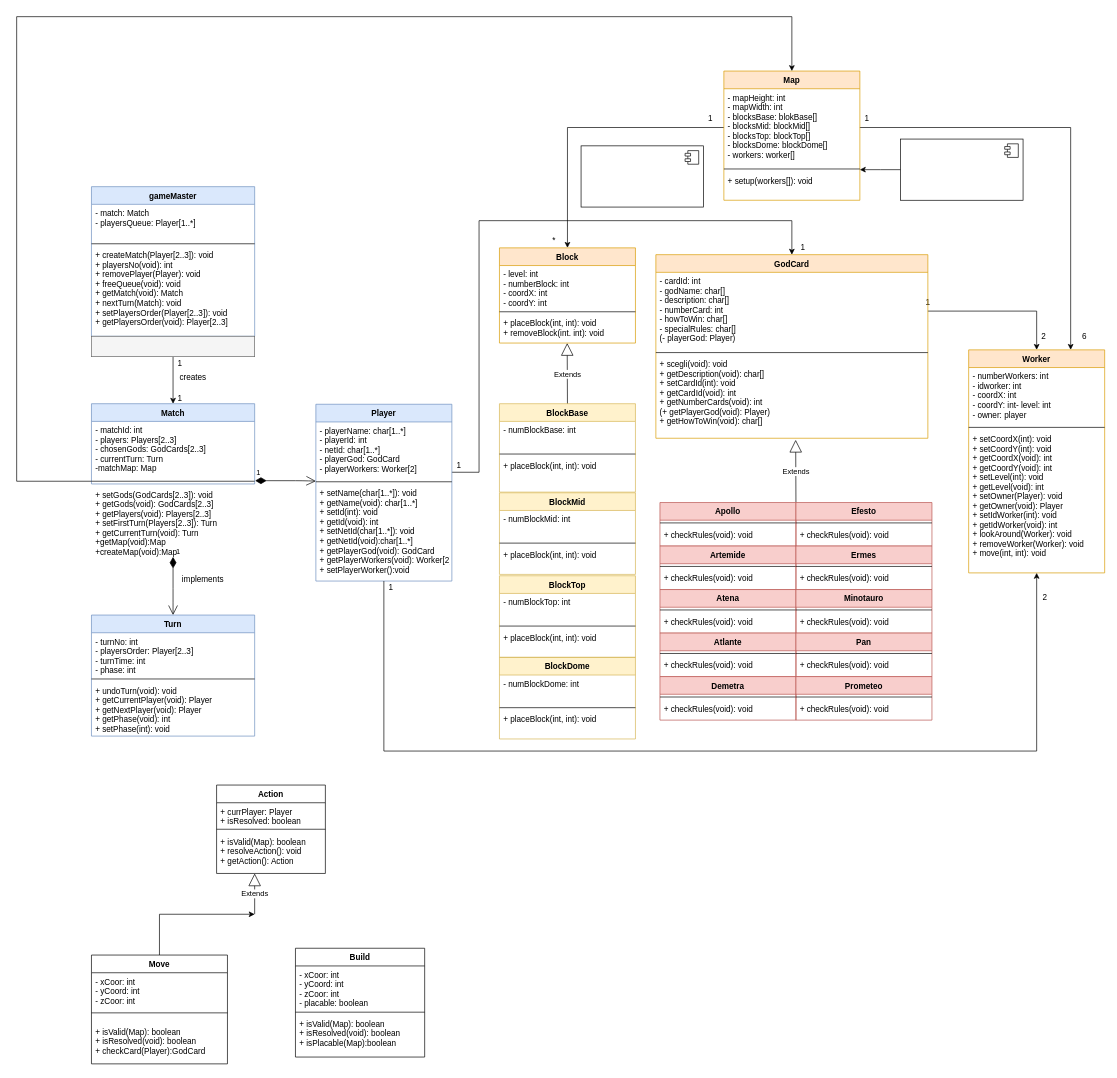
The diagram is 1117 pixels wide and 1078 high, and some of its shapes have lost their labels. The centre of each missing label's shape, as x and y in pixels:
"Players enter queue via login" goes at [173,346].
"rendere GodCard un enumerazione data la sua intrinseca staticità" goes at [641,176].
"«Annotation» the setup create a map with workers positioned." goes at [961,169].
